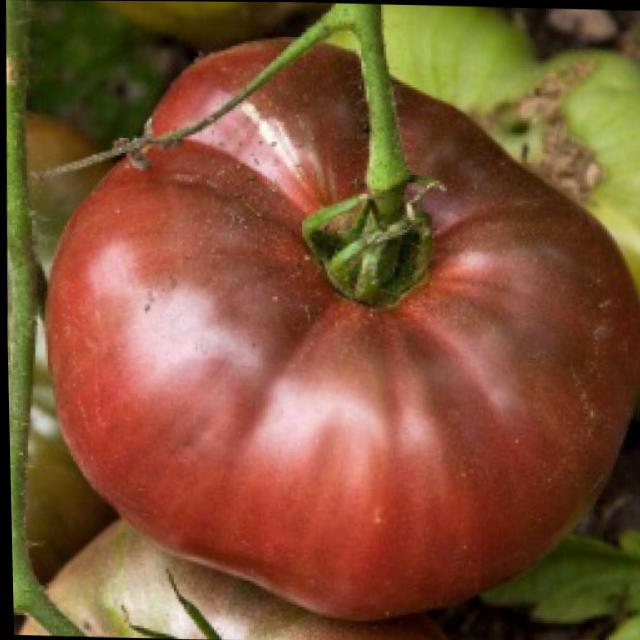tomato: (38, 32, 640, 619)
